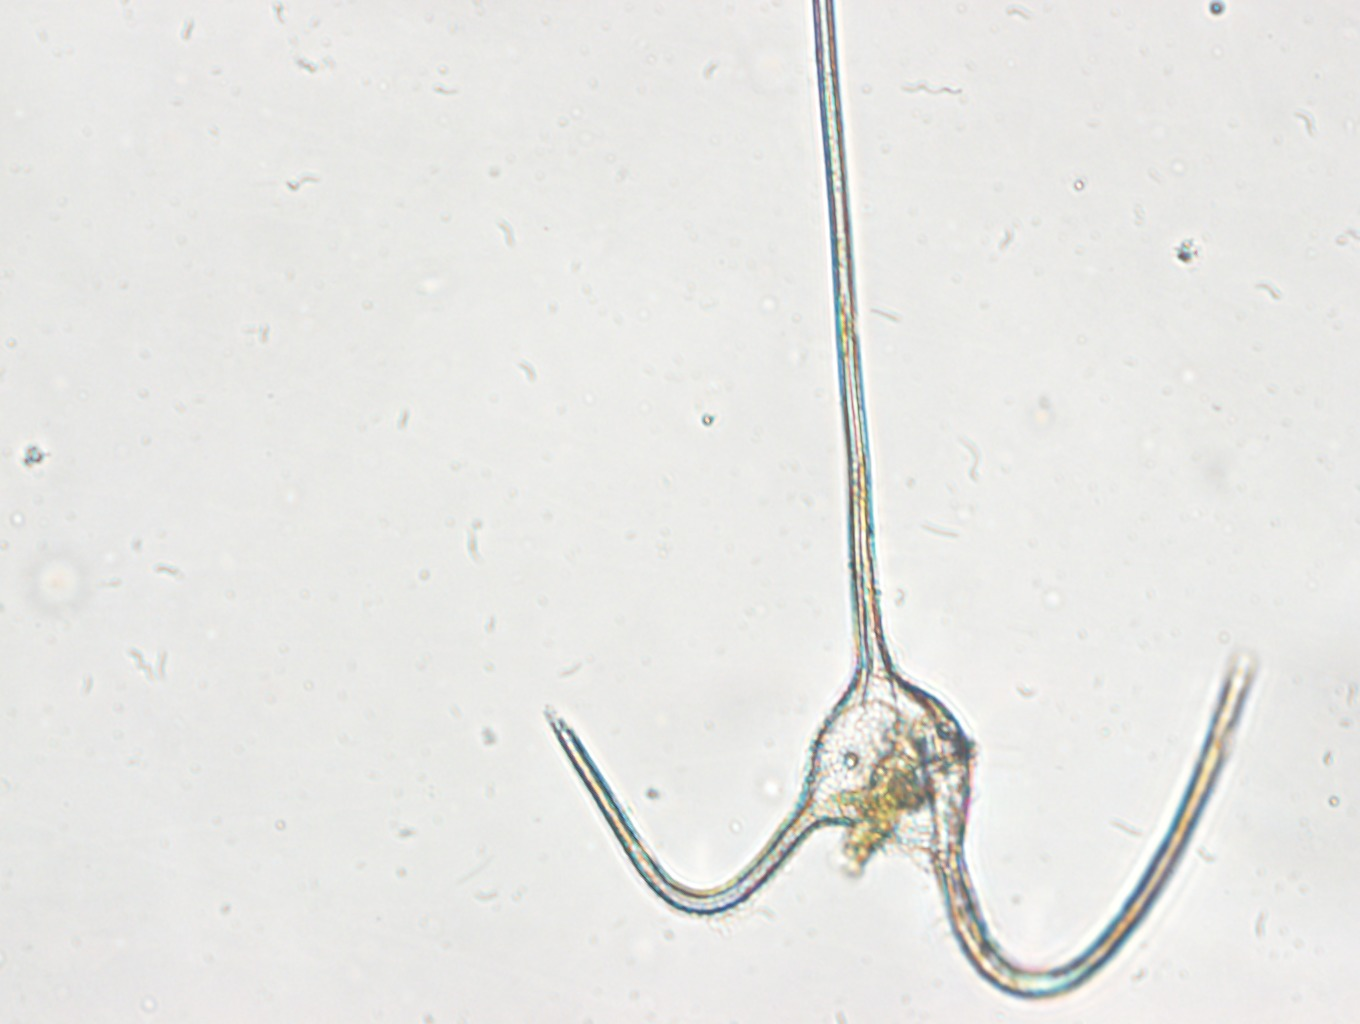ceratium trichoceros: (540, 1, 1265, 1006)
